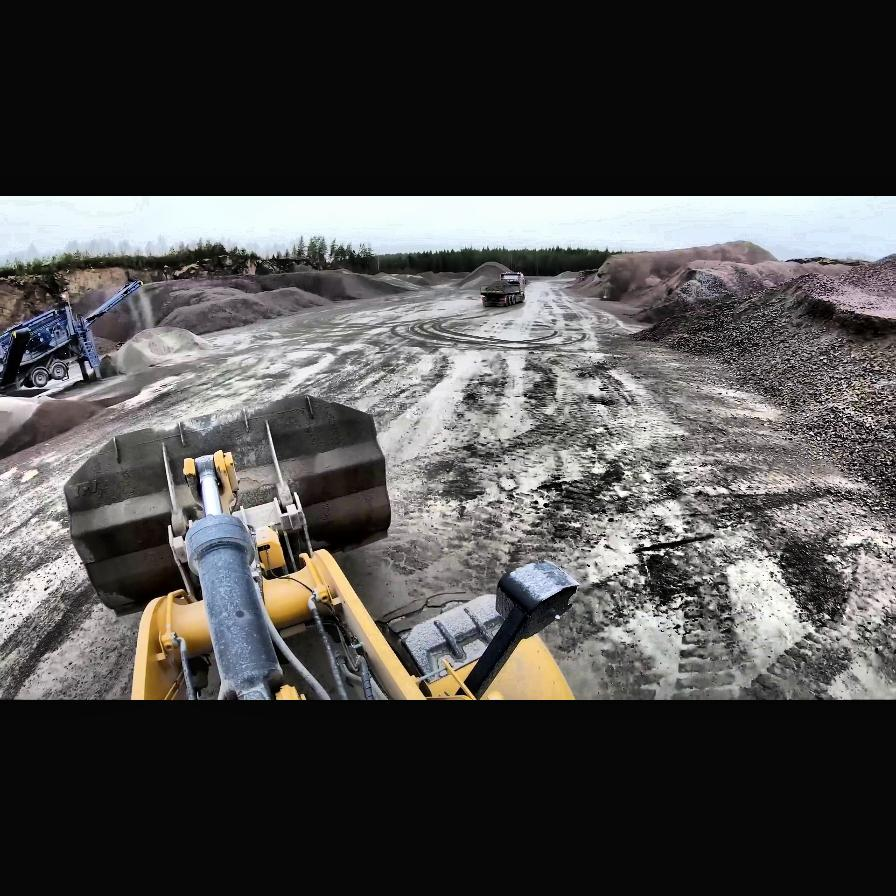anchor: (184, 450, 240, 520)
pile of gravel: (621, 253, 896, 506), (57, 268, 403, 348), (584, 242, 786, 312), (0, 391, 124, 467), (240, 269, 402, 305), (114, 326, 216, 376), (458, 262, 516, 288), (410, 270, 460, 286)
